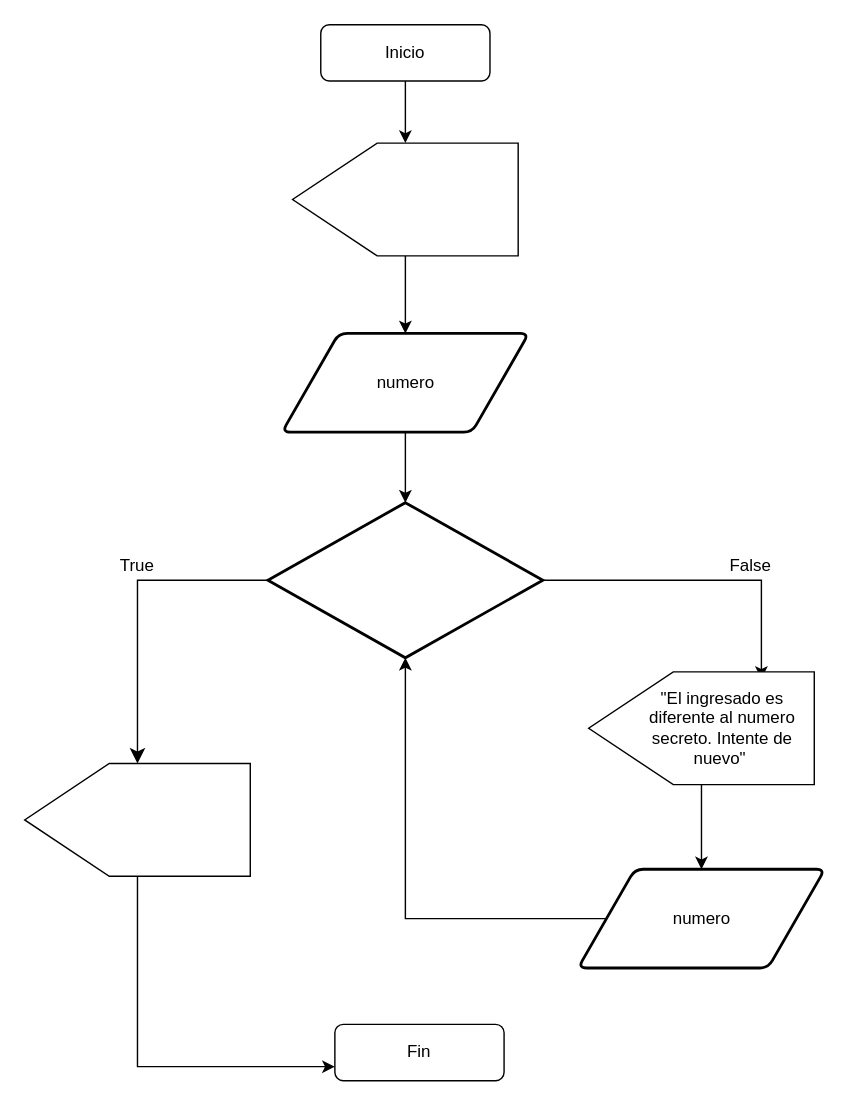
The diagram is 850 pixels wide and 1105 high, and some of its shapes have lost their labels. Each missing label, with the centre of its shape:
"Adivine el número secreto. Ingrese un número ": point (404, 199)
"Adivino el número secreto": point (136, 819)
numero == numero_secreto: point (405, 579)
